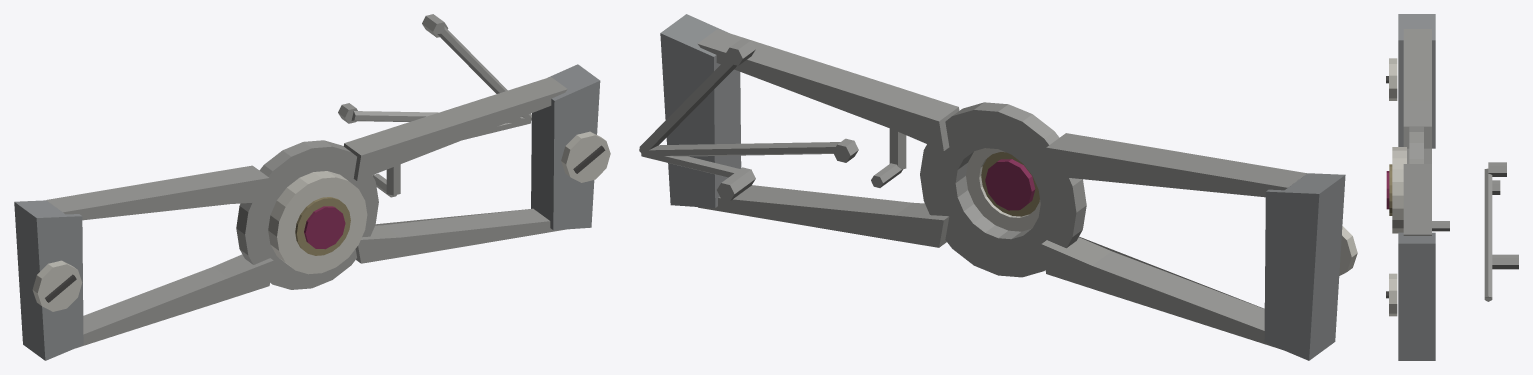
File: ForkBridge.glb
The picture shows the model from 3 angles, left to right: view 1: azimuth 30°, elevation 25°; view 2: azimuth 150°, elevation 25°; view 3: azimuth 270°, elevation 25°; orthographic projection. The views are drawn at different scales.
Parts seen in each view (by area): view 1: ForkBridge; view 2: ForkBridge; view 3: ForkBridge.
Boxes of the visible parts, <box> form: ForkBridge: <box>14,14,610,360</box>; ForkBridge: <box>639,14,1357,360</box>; ForkBridge: <box>1386,14,1518,360</box>.
Bounding box in the file's own units: 0.976 × 0.3073 × 0.235.
